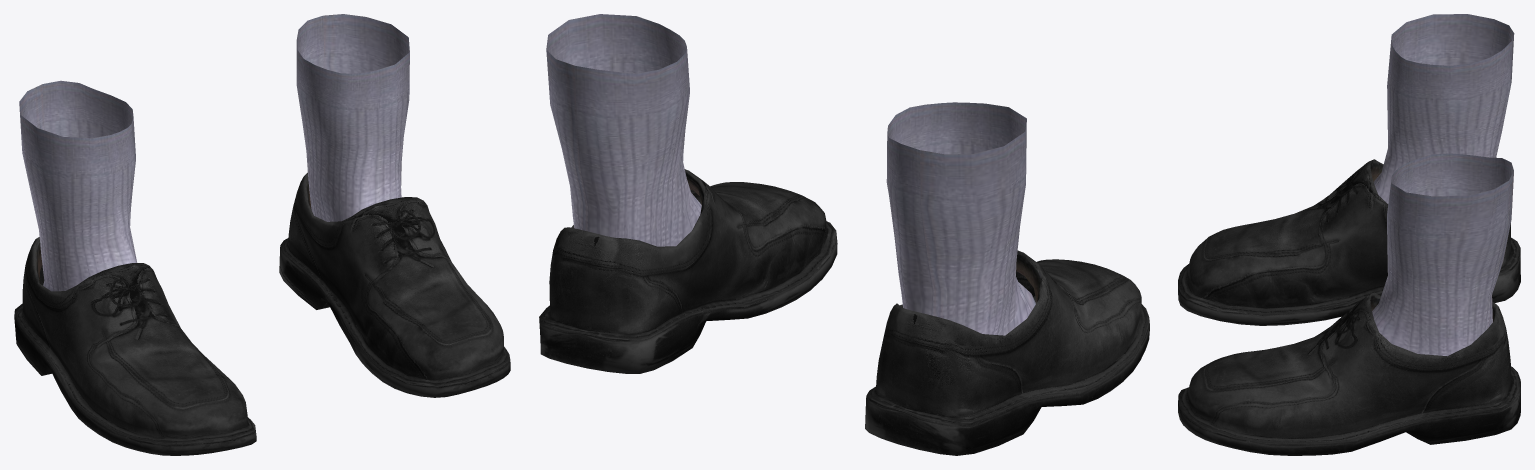
Rendered from shoes_black_formal.gltf.
3 views of the same model, side by side, from view 1: azimuth 30°, elevation 25°; view 2: azimuth 150°, elevation 25°; view 3: azimuth 270°, elevation 25° (orthographic). The views are drawn at different scales.
Parts seen in each view (by area): view 1: shoes_black_formal; view 2: shoes_black_formal; view 3: shoes_black_formal.
Part boxes in pixels (x1,y1,x2,y2): shoes_black_formal: [14, 14, 510, 455]; shoes_black_formal: [539, 14, 1149, 455]; shoes_black_formal: [1178, 14, 1520, 455].
Size of the model in its own units: 0.337 by 0.2126 by 0.2537.
1 material, 1 textured.
